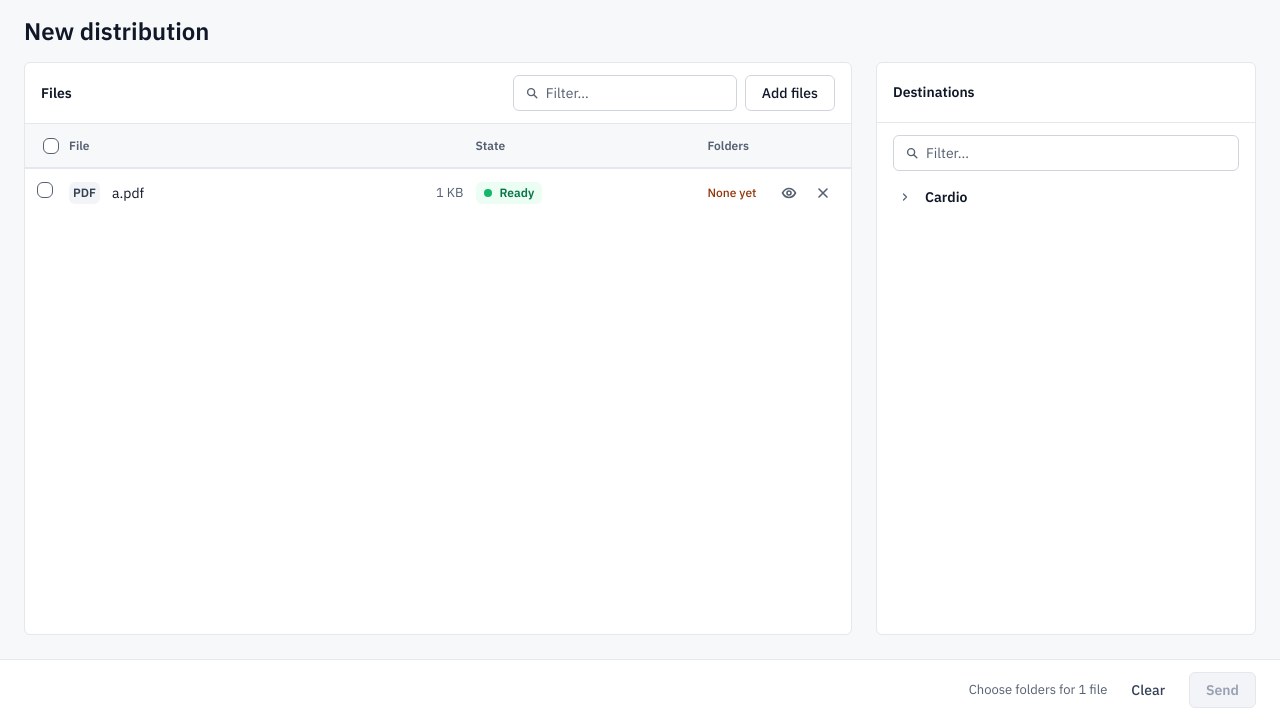
it: Distribute › gives each reason in words beside the buttons: no folders, still checking, failed; and none when Send is on
Click the button named "Expand Cardio" at point(905, 197), box x1=893 y1=185 x2=917 y2=209
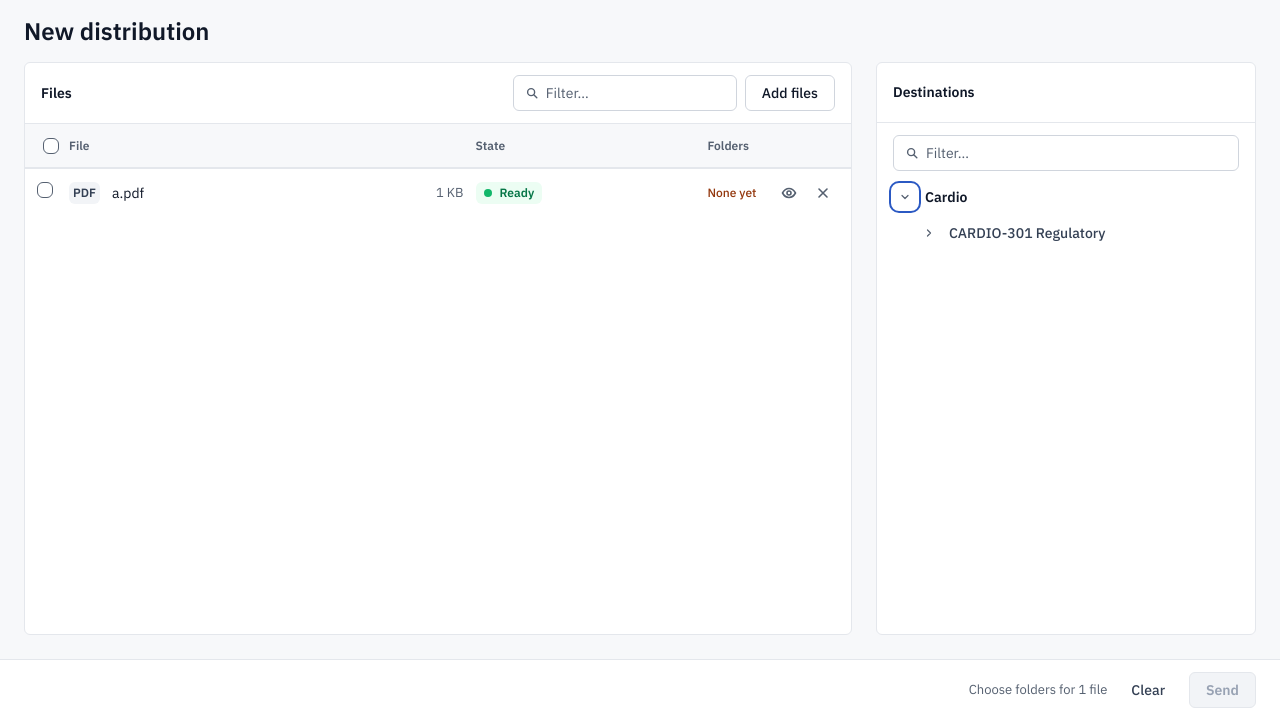
Click the button named "Expand CARDIO-301 Regulatory" at point(929, 233), box x1=917 y1=221 x2=941 y2=245
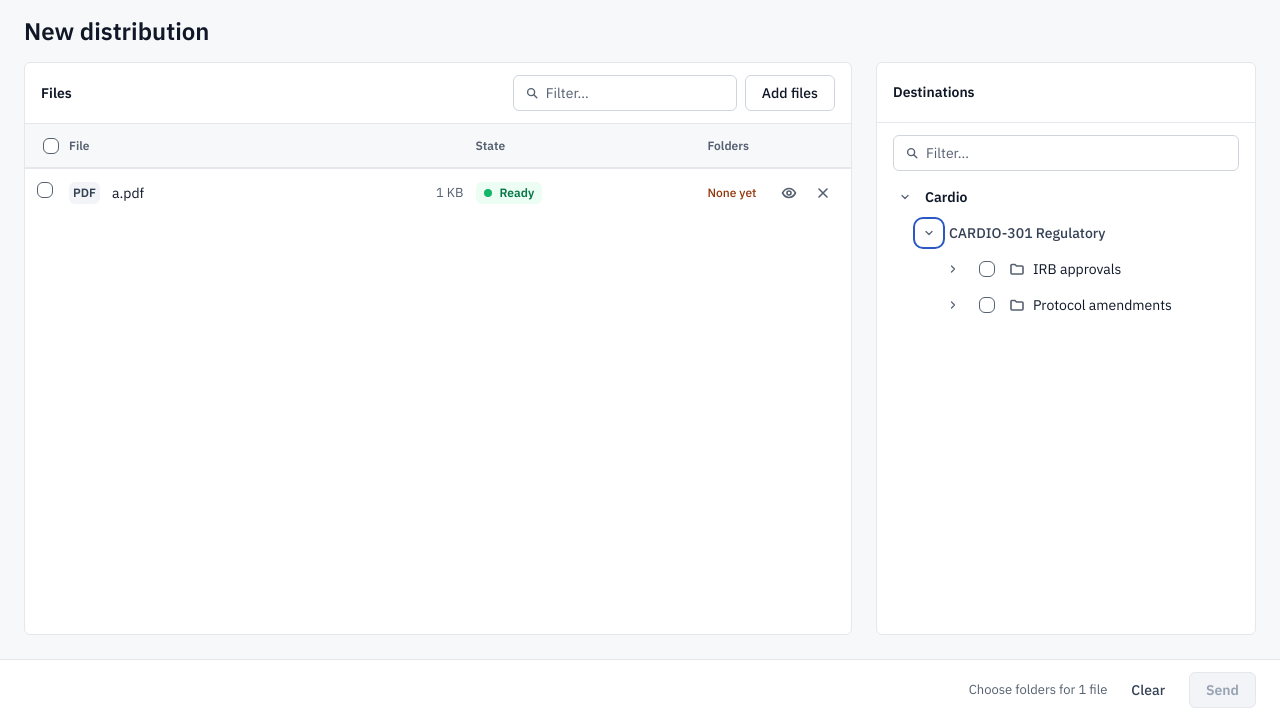
Click the checkbox named "Send all 1 file to Cardio / CARDIO-301 Regulatory / IRB appr" at point(987, 269), box x1=973 y1=255 x2=1001 y2=283
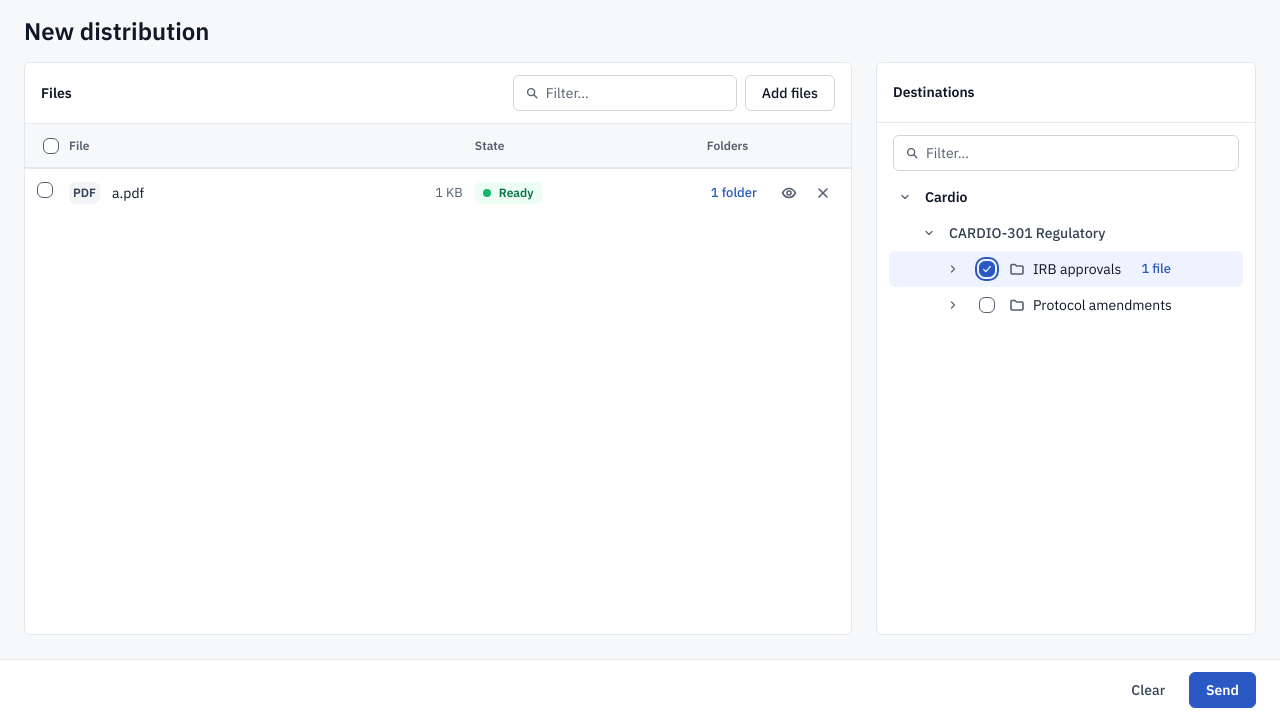
Result: the button "Send" is enabled at x1=1189 y1=672 x2=1256 y2=708
